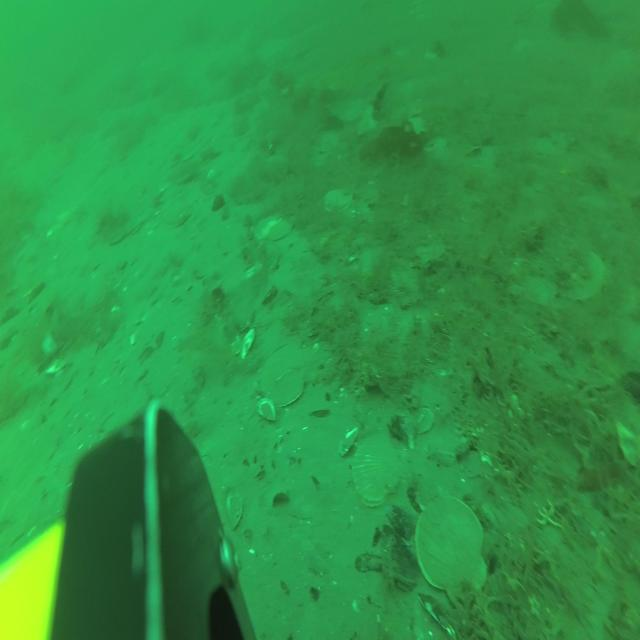scallop: (415, 500, 488, 606), (260, 342, 317, 408), (352, 432, 400, 507), (564, 252, 605, 304), (162, 188, 194, 229), (324, 187, 352, 214), (269, 219, 293, 242), (255, 212, 275, 238)
